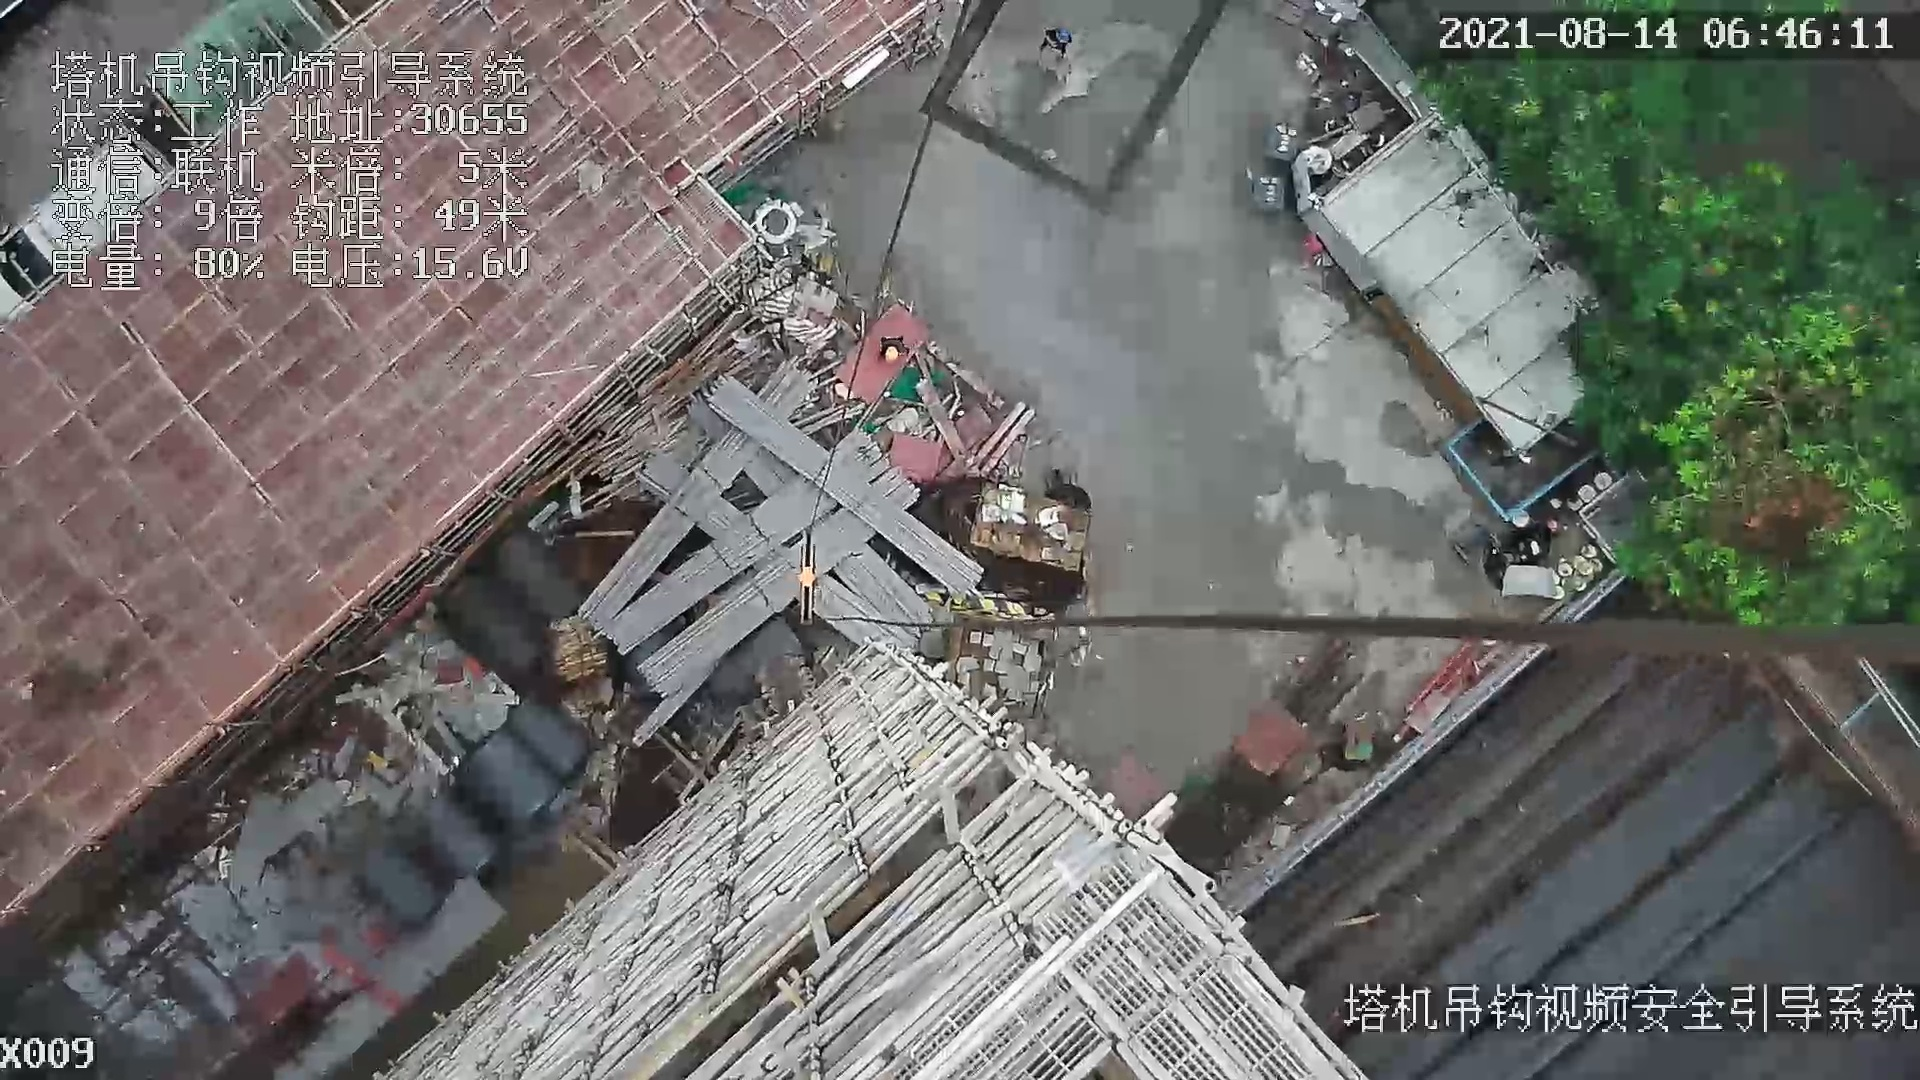helmet: (884, 348, 901, 359)
hook: (795, 531, 824, 627)
hopper: (1426, 406, 1601, 524)
person: (876, 326, 918, 363), (1042, 18, 1076, 59)
